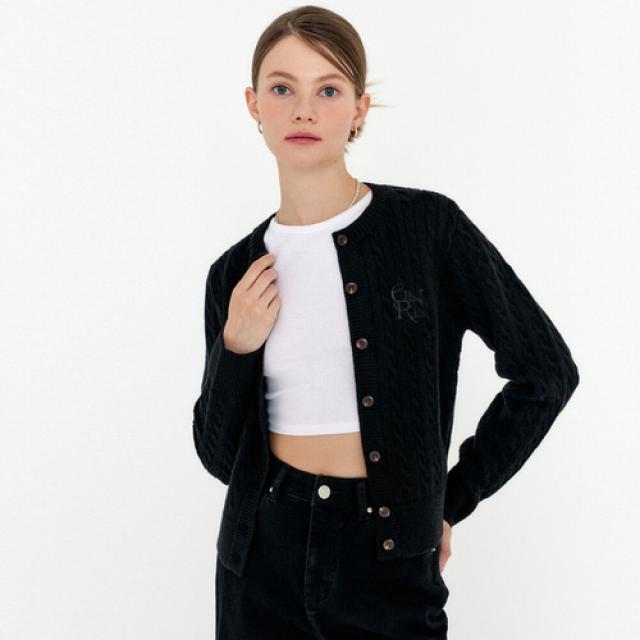dress: (190, 190, 580, 524)
